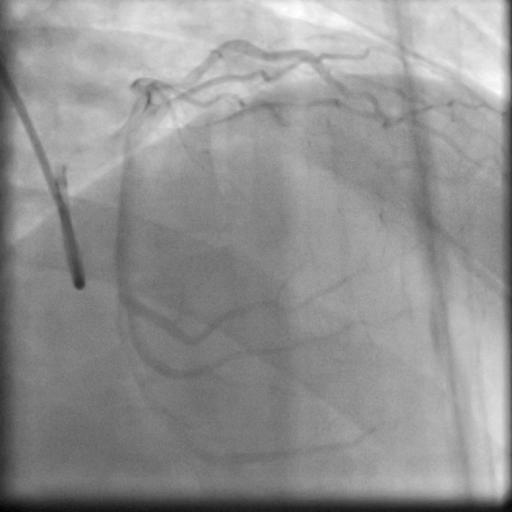Stenosis: (160, 63, 197, 92)
